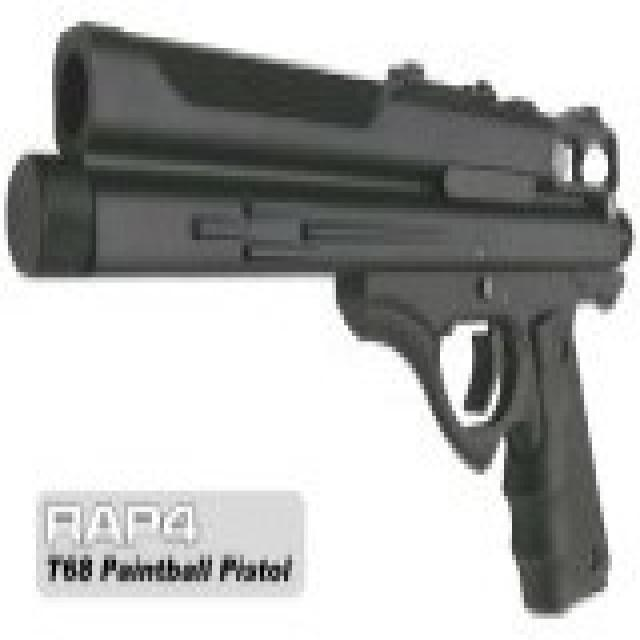Gun: (12, 8, 638, 610)
